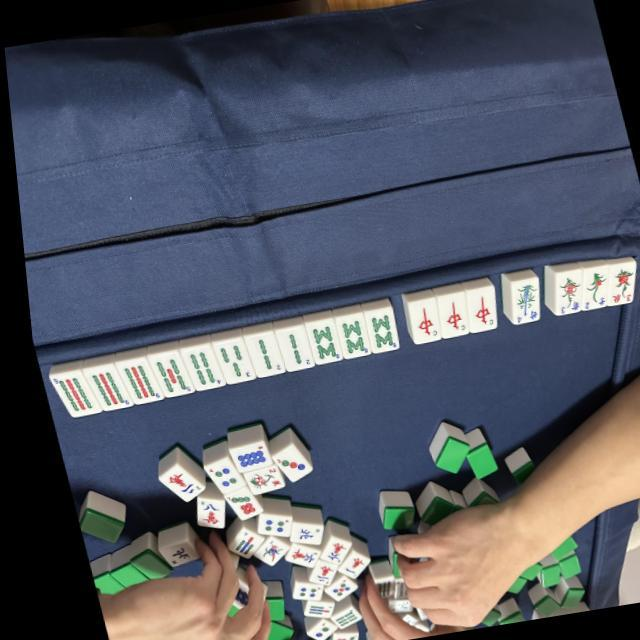bf2: (570, 272, 606, 310)
bf3: (540, 274, 578, 314)
bf4: (497, 280, 538, 324)
bs2: (597, 264, 634, 304)
hdr: (401, 302, 433, 341), (431, 296, 461, 334), (460, 290, 490, 328)
sb2: (240, 336, 274, 376), (271, 330, 303, 370)
sb3: (209, 340, 245, 380)
sb4: (178, 348, 215, 390)
sb5: (145, 355, 183, 396)
sb8: (329, 316, 361, 356), (300, 322, 332, 361), (359, 311, 391, 350)
sb9: (43, 372, 87, 418), (80, 368, 122, 410), (114, 361, 154, 403)
